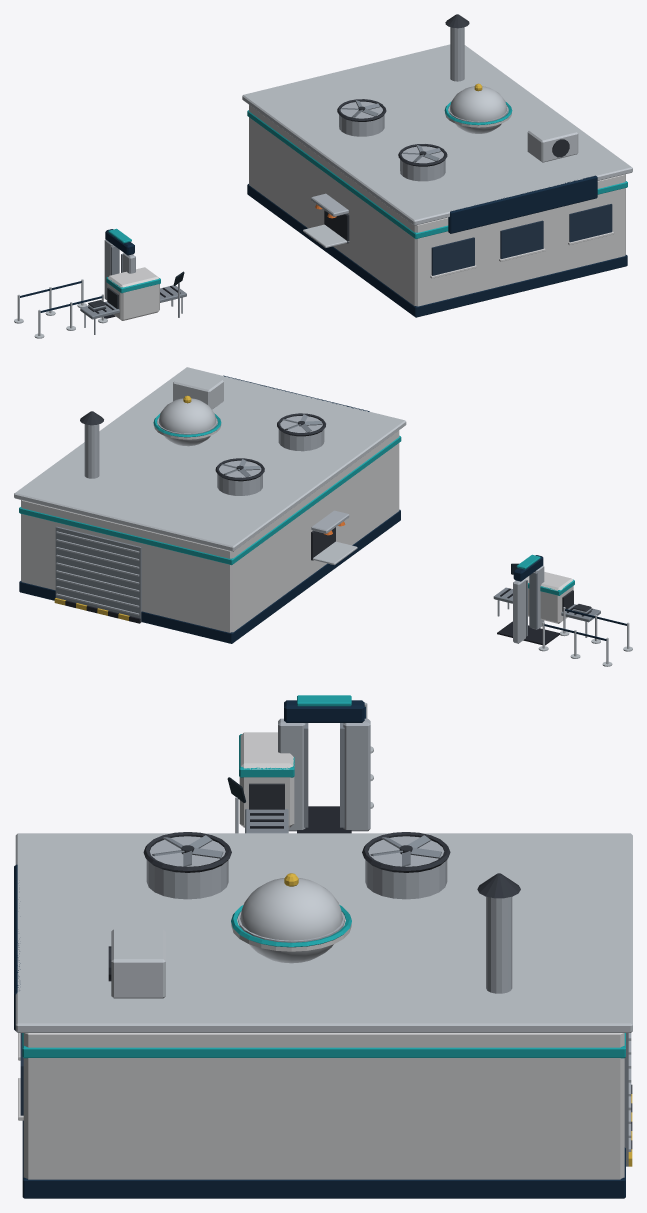
File: skyport-kitchen.glb
3 views of the same model, one above another, from view 1: azimuth 30°, elevation 25°; view 2: azimuth 150°, elevation 25°; view 3: azimuth 270°, elevation 25° (orthographic). The views are drawn at different scales.
Visible parts, largest first — view 1: sp_kitchen_mesh, sp_security_mesh, sp_kitchen_lid_mesh; view 2: sp_kitchen_mesh, sp_security_mesh, sp_kitchen_lid_mesh; view 3: sp_kitchen_mesh, sp_security_mesh, sp_kitchen_lid_mesh, sp_kitchen_fan2_mesh, sp_kitchen_fan1_mesh.
Part boxes in pixels (left/top/right/bottom): sp_kitchen_mesh: left=242, top=14, right=632, bottom=317; sp_security_mesh: left=14, top=228, right=186, bottom=338; sp_kitchen_lid_mesh: left=448, top=83, right=508, bottom=133; sp_kitchen_mesh: left=14, top=367, right=406, bottom=643; sp_security_mesh: left=493, top=554, right=632, bottom=666; sp_kitchen_lid_mesh: left=157, top=395, right=217, bottom=446; sp_kitchen_mesh: left=14, top=832, right=632, bottom=1198; sp_security_mesh: left=227, top=695, right=373, bottom=833; sp_kitchen_lid_mesh: left=238, top=873, right=344, bottom=963; sp_kitchen_fan2_mesh: left=370, top=835, right=441, bottom=866; sp_kitchen_fan1_mesh: left=152, top=835, right=223, bottom=866.
Size of the model in its own units: 19.71 by 5.9 by 11.33.
